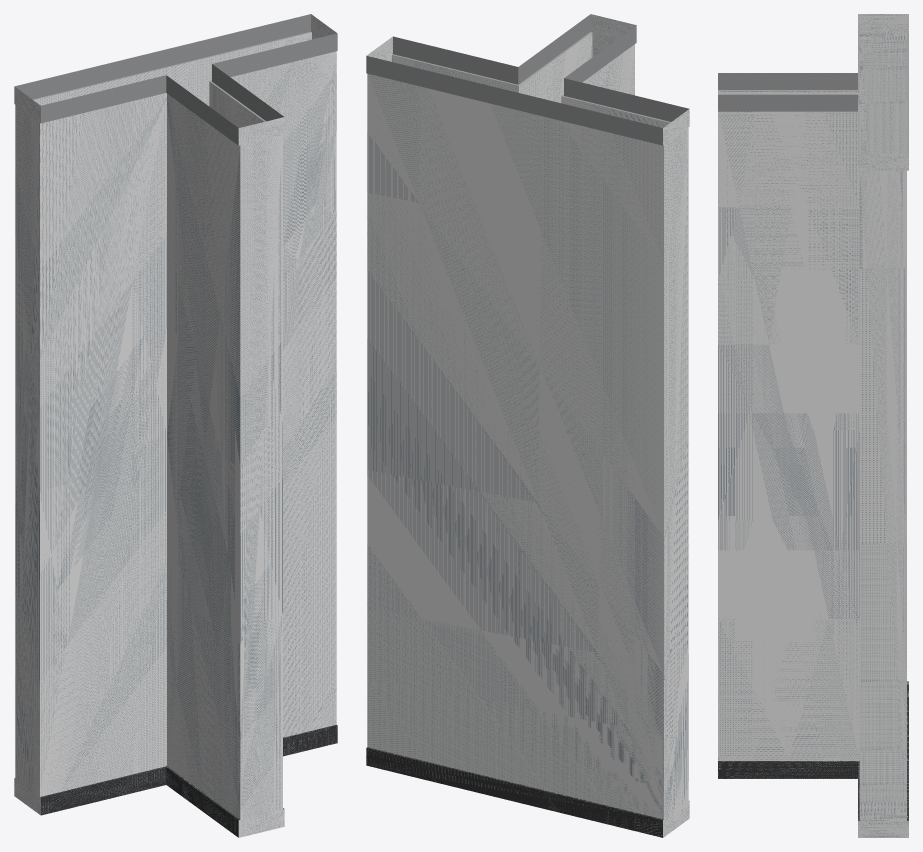
File: Corner_ds_double_plinth_075x075x025x4.dae
The picture shows the model from 3 angles, left to right: view 1: azimuth 30°, elevation 25°; view 2: azimuth 150°, elevation 25°; view 3: azimuth 270°, elevation 25°; orthographic projection. The views are drawn at different scales.
Parts seen in each view (by area): view 1: group_0 (×6); view 2: group_0 (×5); view 3: group_0 (×4).
Boxes of the visible parts, x1,y1,x2,y2 form: group_0 (×6): (14,14,337,837); group_0 (×5): (366,14,689,837); group_0 (×4): (718,14,908,837).
Size of the model in its own units: 68.9 by 39.76 by 157.
